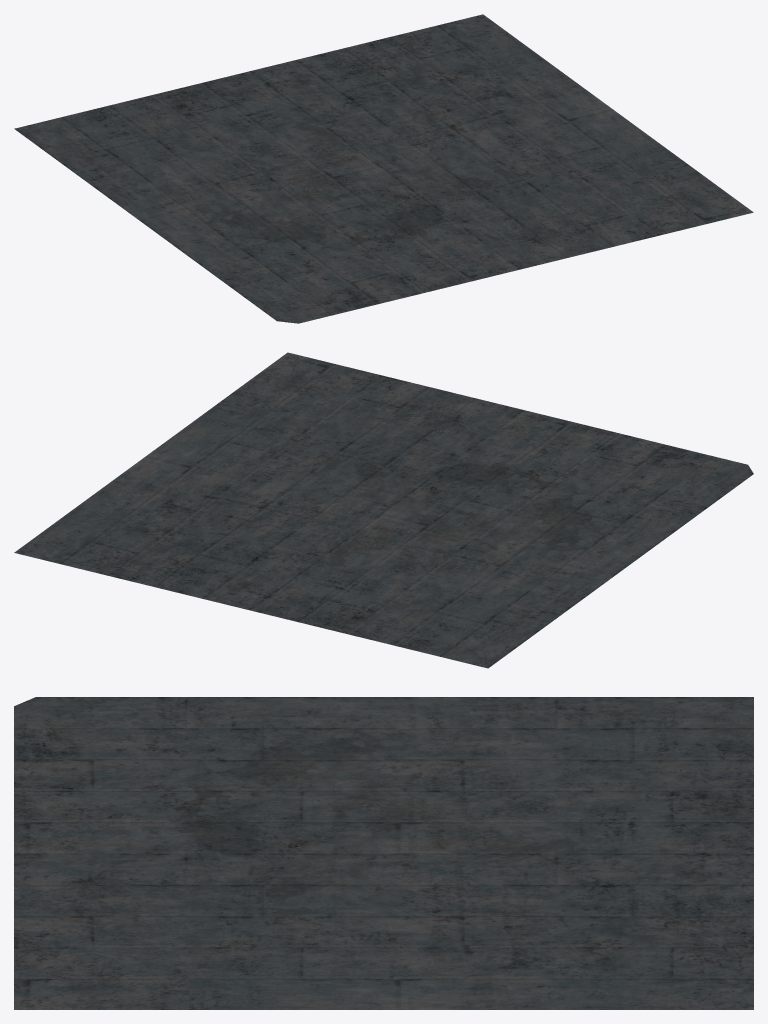
File: RoofDown_Left_Exterior.fbx
The picture shows the model from 3 angles, top to bottom: view 1: azimuth 30°, elevation 25°; view 2: azimuth 150°, elevation 25°; view 3: azimuth 270°, elevation 25°; orthographic projection. The views are drawn at different scales.
Visible parts, largest first — view 1: FloorDown_Left_Exterior; view 2: FloorDown_Left_Exterior; view 3: FloorDown_Left_Exterior.
Part boxes in pixels (x1=…): FloorDown_Left_Exterior: x1=14, y1=14, x2=753, y2=323; FloorDown_Left_Exterior: x1=14, y1=352, x2=753, y2=668; FloorDown_Left_Exterior: x1=14, y1=697, x2=753, y2=1009.
Size of the model in its own units: 157 by 6.88e-06 by 157.
